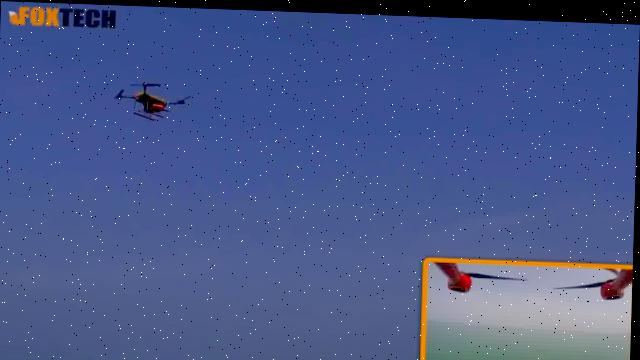drone: (109, 77, 190, 120)
